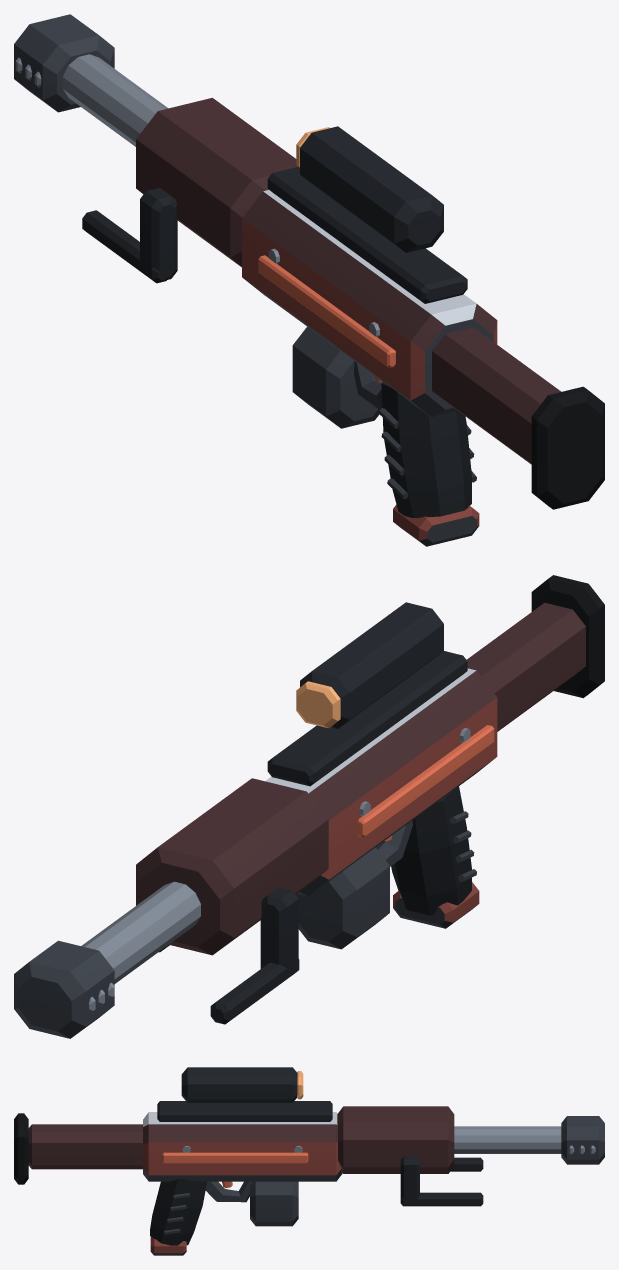
Rendered from RifleHeavy.fbx.
3 renders of one model, top to bottom at view 1: azimuth 30°, elevation 25°; view 2: azimuth 150°, elevation 25°; view 3: azimuth 270°, elevation 25°, orthographic. The views are drawn at different scales.
Parts seen in each view (by area): view 1: Receiver, ReinforcedHandguard, LongOptic, Stock, Grip, ButtPad, TopRail, SquaredBrake, ShortMagazine, HeavyBarrel, SideAccentL, BipodMountL (+4 smaller); view 2: ReinforcedHandguard, Receiver, Stock, LongOptic, TopRail, SquaredBrake, Grip, ShortMagazine, HeavyBarrel, ButtPad, SideAccentL, BipodMountL (+4 smaller); view 3: Receiver, ReinforcedHandguard, Stock, LongOptic, TopRail, HeavyBarrel, Grip, ShortMagazine, SquaredBrake, SideAccentR, BipodR, ButtPad (+5 smaller).
Boxes of the visible parts, x1,y1,x2,y2 form: Receiver: (242,190,497,417); ReinforcedHandguard: (136,97,297,267); LongOptic: (300,126,443,252); Stock: (432,327,561,464); Grip: (381,382,471,517); ButtPad: (531,386,604,509); TopRail: (267,166,467,303); SquaredBrake: (14,14,114,112); ShortMagazine: (292,326,379,428); HeavyBarrel: (62,54,168,146); SideAccentL: (258,255,395,367); BipodMountL: (140,187,177,279); ReinforcedHandguard: (136,778,328,955); Receiver: (265,668,497,896); Stock: (466,602,585,731); LongOptic: (300,602,443,728); TopRail: (267,651,467,786); SquaredBrake: (14,940,114,1038); Grip: (391,786,471,915); ShortMagazine: (295,847,389,949); HeavyBarrel: (81,881,200,983); ButtPad: (531,575,604,698); SideAccentL: (356,725,494,837); BipodMountL: (260,887,298,970); Receiver: (143,1112,342,1181); ReinforcedHandguard: (337,1106,454,1173); Stock: (28,1124,142,1169); LongOptic: (181,1067,297,1102); TopRail: (157,1101,332,1121); HeavyBarrel: (454,1126,561,1153); Grip: (150,1179,206,1245); ShortMagazine: (250,1181,298,1226); SquaredBrake: (561,1116,604,1164); SideAccentR: (162,1152,308,1163); BipodR: (400,1192,483,1206); ButtPad: (14,1113,28,1184).
Bounding box in the file's own units: 0.195 × 0.4055 × 1.22.
1 material, 1 textured.
